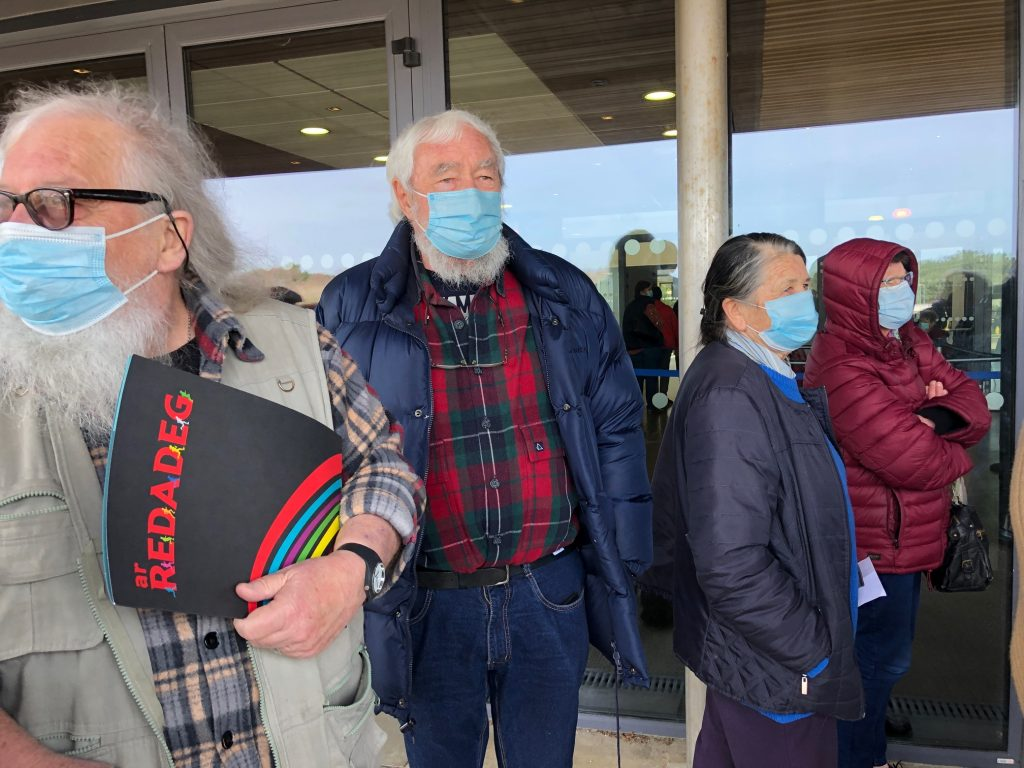with_mask: (412, 128, 509, 269), (753, 252, 824, 358), (858, 251, 928, 327)
